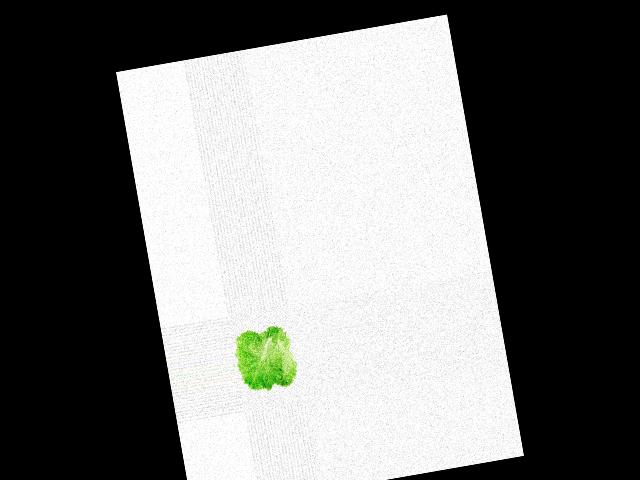lettuce: (229, 318, 303, 399)
